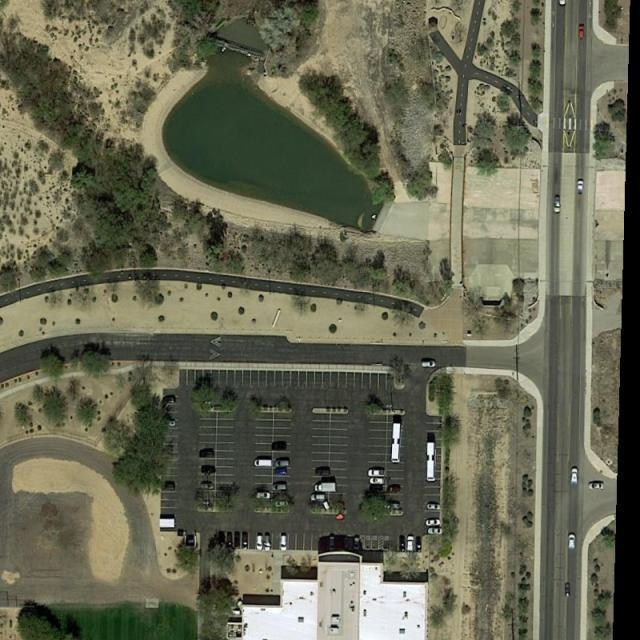vehicle: (390, 422, 402, 462), (426, 442, 438, 482), (314, 482, 338, 491), (254, 458, 274, 468), (553, 196, 562, 214), (234, 530, 242, 550), (226, 530, 234, 550), (567, 534, 576, 551), (329, 534, 338, 551), (570, 466, 578, 485), (159, 482, 178, 490), (588, 482, 606, 490), (407, 536, 415, 554), (280, 534, 288, 552), (272, 442, 290, 450), (369, 469, 386, 477), (198, 482, 215, 490), (201, 465, 218, 473), (387, 485, 402, 494), (310, 494, 329, 501), (271, 483, 290, 490), (421, 360, 437, 368), (578, 179, 586, 195), (370, 477, 386, 485), (274, 468, 290, 476), (256, 533, 263, 551), (316, 468, 331, 476), (425, 519, 442, 526), (242, 532, 248, 551), (159, 421, 178, 427), (426, 503, 442, 510), (399, 536, 406, 552), (354, 534, 361, 550), (265, 533, 271, 551), (387, 502, 402, 509), (254, 493, 271, 499), (274, 460, 290, 466), (200, 450, 216, 456), (579, 26, 585, 41), (275, 501, 290, 507), (428, 528, 442, 534), (417, 538, 423, 552), (162, 398, 176, 404), (566, 582, 571, 598), (557, 1, 566, 6)
